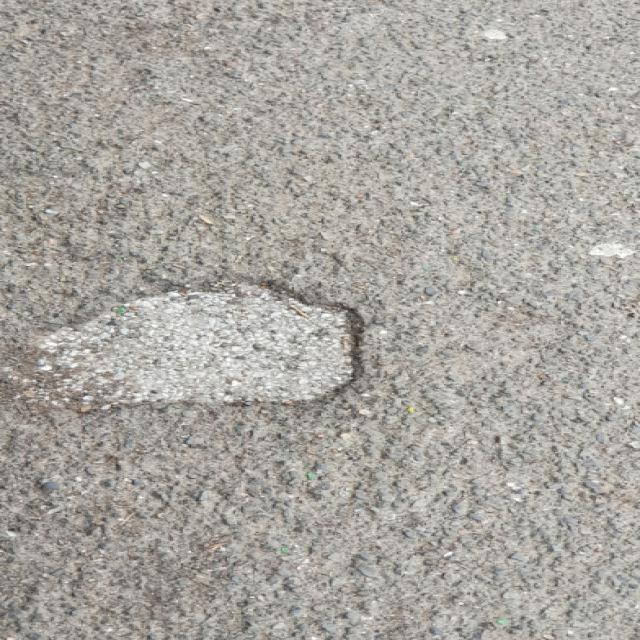Pothole: (1, 270, 372, 412)
